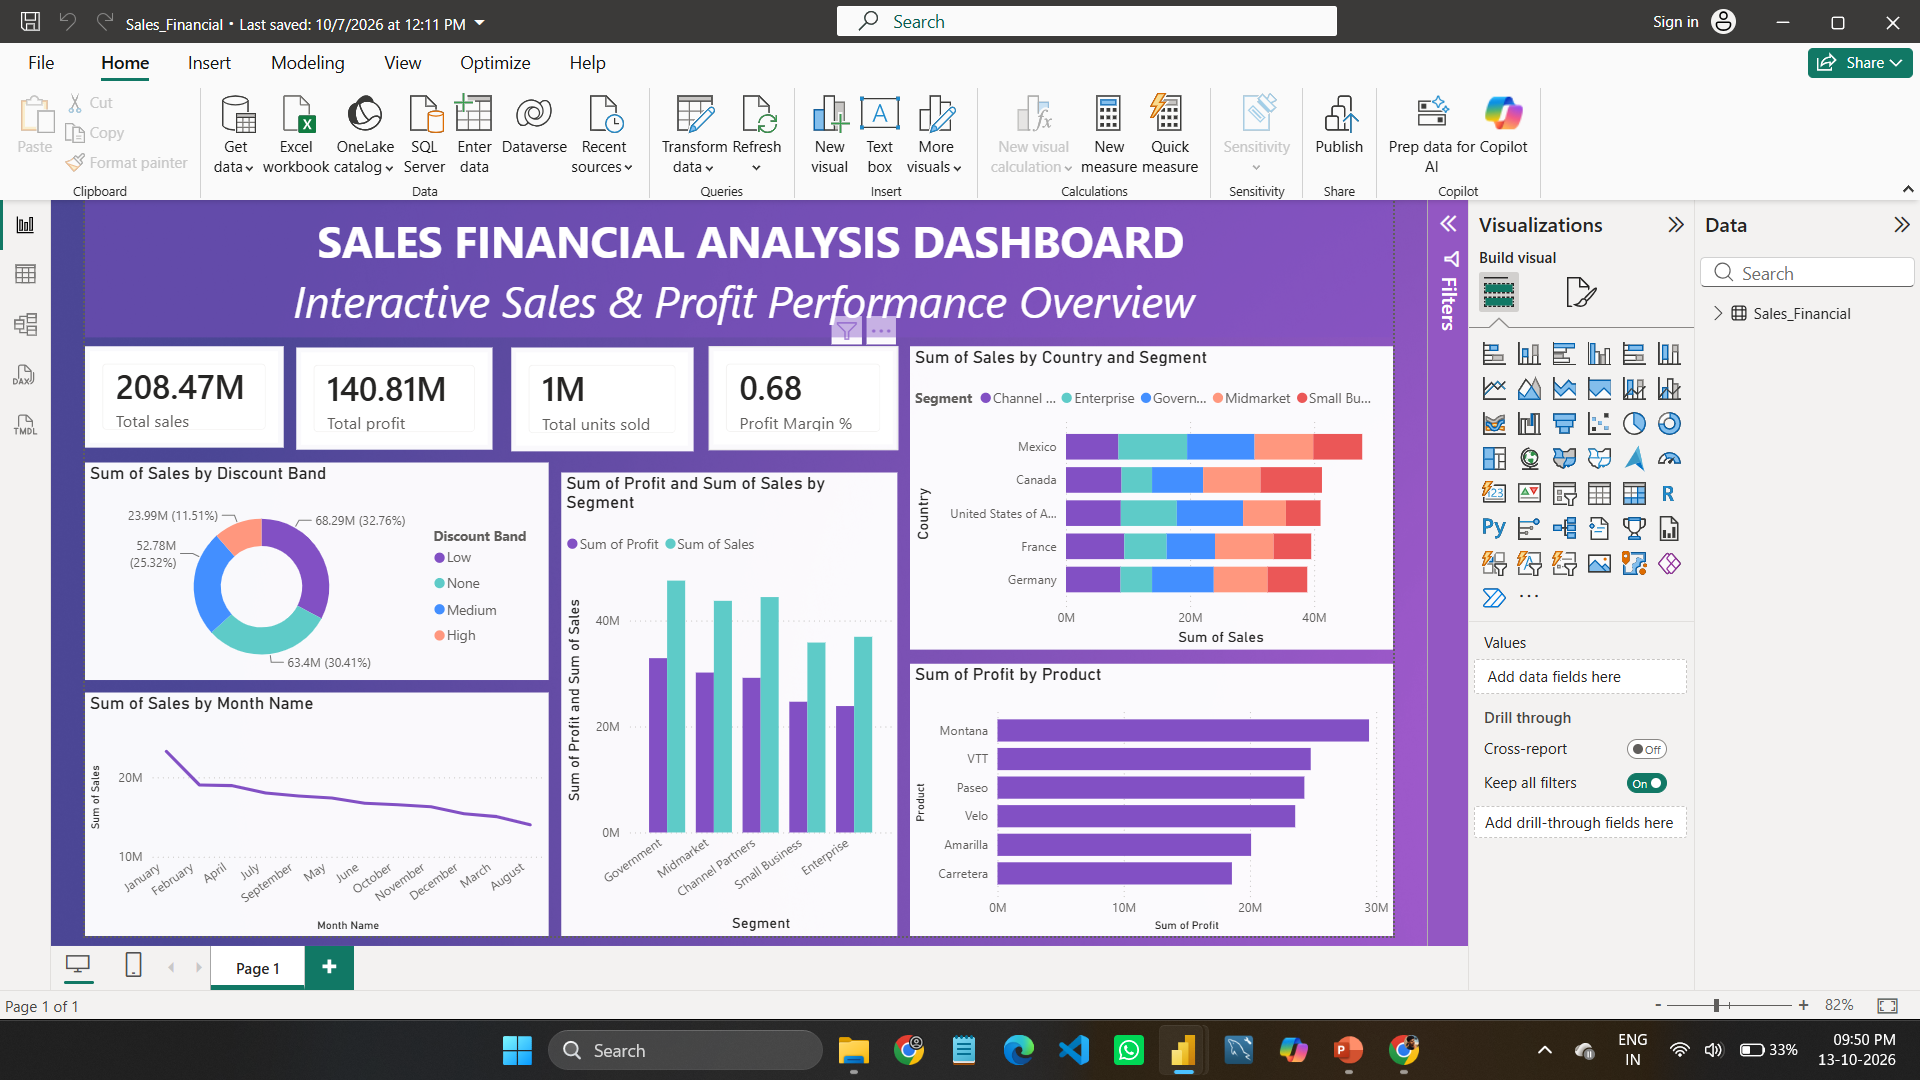

What the dashboard file says about the page in this screenshot:
{"tool":"powerbi","page":{"name":"Page 1","canvas":[1280,720],"ordinal":0},"visuals":[{"type":"cardVisual","fields":{"Data":["Sales_Financial.Total sales"]},"box":[0,143.1,194.4,99],"z":0},{"type":"cardVisual","fields":{"Data":["Sales_Financial.Total units sold"]},"box":[419.4,144.3,178.4,101.5],"z":1000},{"type":"cardVisual","fields":{"Data":["Sales_Financial.Total profit"]},"box":[211.6,144.3,192.1,100.2],"z":2000},{"type":"cardVisual","fields":{"Data":["Sales_Financial.Profit Margin %"]},"box":[610.2,143.1,184.6,113.7],"z":3000},{"type":"lineChart","fields":{"Category":["Sales_Financial.Month Name"],"Y":["Sum(Sales_Financial.Sales)"]},"box":[0,481.8,453.7,238.5],"z":4000},{"type":"barChart","fields":{"Category":["Sales_Financial.Country"],"Y":["Sum(Sales_Financial.Sales)"],"Series":["Sales_Financial.Segment"]},"box":[807.1,143.1,473.2,297.1],"z":5000},{"type":"donutChart","fields":{"Y":["Sum(Sales_Financial.Sales)"],"Category":["Sales_Financial.Discount Band"]},"box":[0,256.8,453.7,212.8],"z":6000},{"type":"clusteredBarChart","fields":{"Y":["Sum(Sales_Financial.Profit)"],"Category":["Sales_Financial.Product"]},"box":[807.1,453.7,473.2,266.6],"z":7000},{"type":"textbox","box":[0,0,1280.3,134.5],"z":8000},{"type":"clusteredColumnChart","fields":{"Y":["Sum(Sales_Financial.Profit)","Sum(Sales_Financial.Sales)"],"Category":["Sales_Financial.Segment"]},"box":[465.9,267.8,328.9,452.4],"z":9000}]}

Visuals, with their boxes on the page's 1280x720 design canvas (x1, y1, x2, y2). These are canvas units, not pixel positions in the 1920x1080 screenshot, which may show the page scaled, cropped or inside an application window:
cardVisual - Sales_Financial.Total sales: locate(0, 143, 194, 242)
cardVisual - Sales_Financial.Total units sold: locate(419, 144, 598, 246)
cardVisual - Sales_Financial.Total profit: locate(212, 144, 404, 244)
cardVisual - Sales_Financial.Profit Margin %: locate(610, 143, 795, 257)
lineChart - Sales_Financial.Month Name x Sum(Sales_Financial.Sales): locate(0, 482, 454, 720)
barChart - Sales_Financial.Country x Sum(Sales_Financial.Sales): locate(807, 143, 1280, 440)
donutChart - Sum(Sales_Financial.Sales) x Sales_Financial.Discount Band: locate(0, 257, 454, 470)
clusteredBarChart - Sum(Sales_Financial.Profit) x Sales_Financial.Product: locate(807, 454, 1280, 720)
textbox: locate(0, 0, 1280, 134)
clusteredColumnChart - Sum(Sales_Financial.Profit) x Sum(Sales_Financial.Sales): locate(466, 268, 795, 720)
